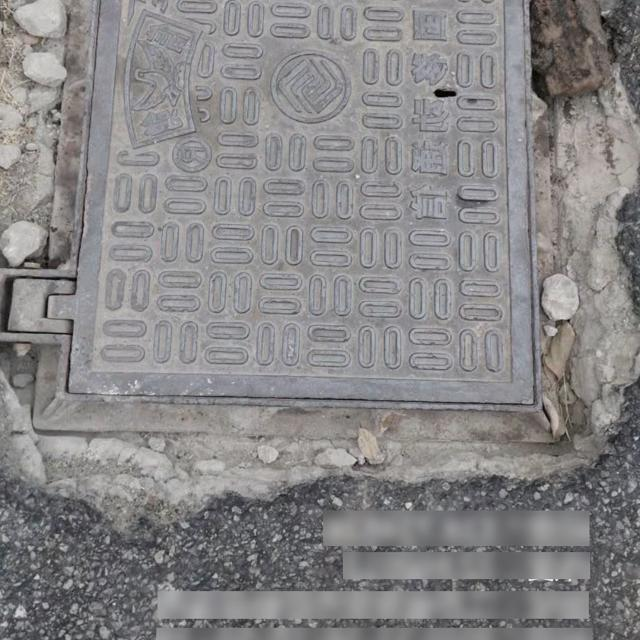circle: (0, 0, 608, 482)
